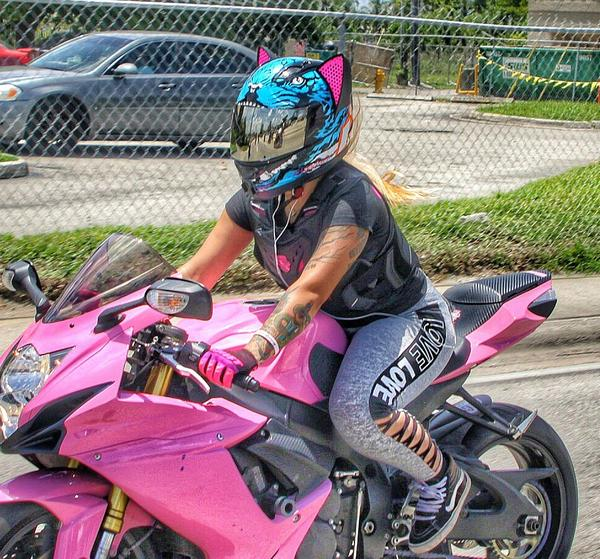with_helmet: (223, 36, 363, 203)
